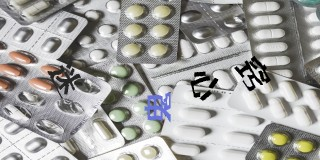心: (190, 71, 218, 101)
窍: (234, 55, 271, 91)
迷: (48, 62, 81, 98)
鬼: (145, 91, 172, 123)
